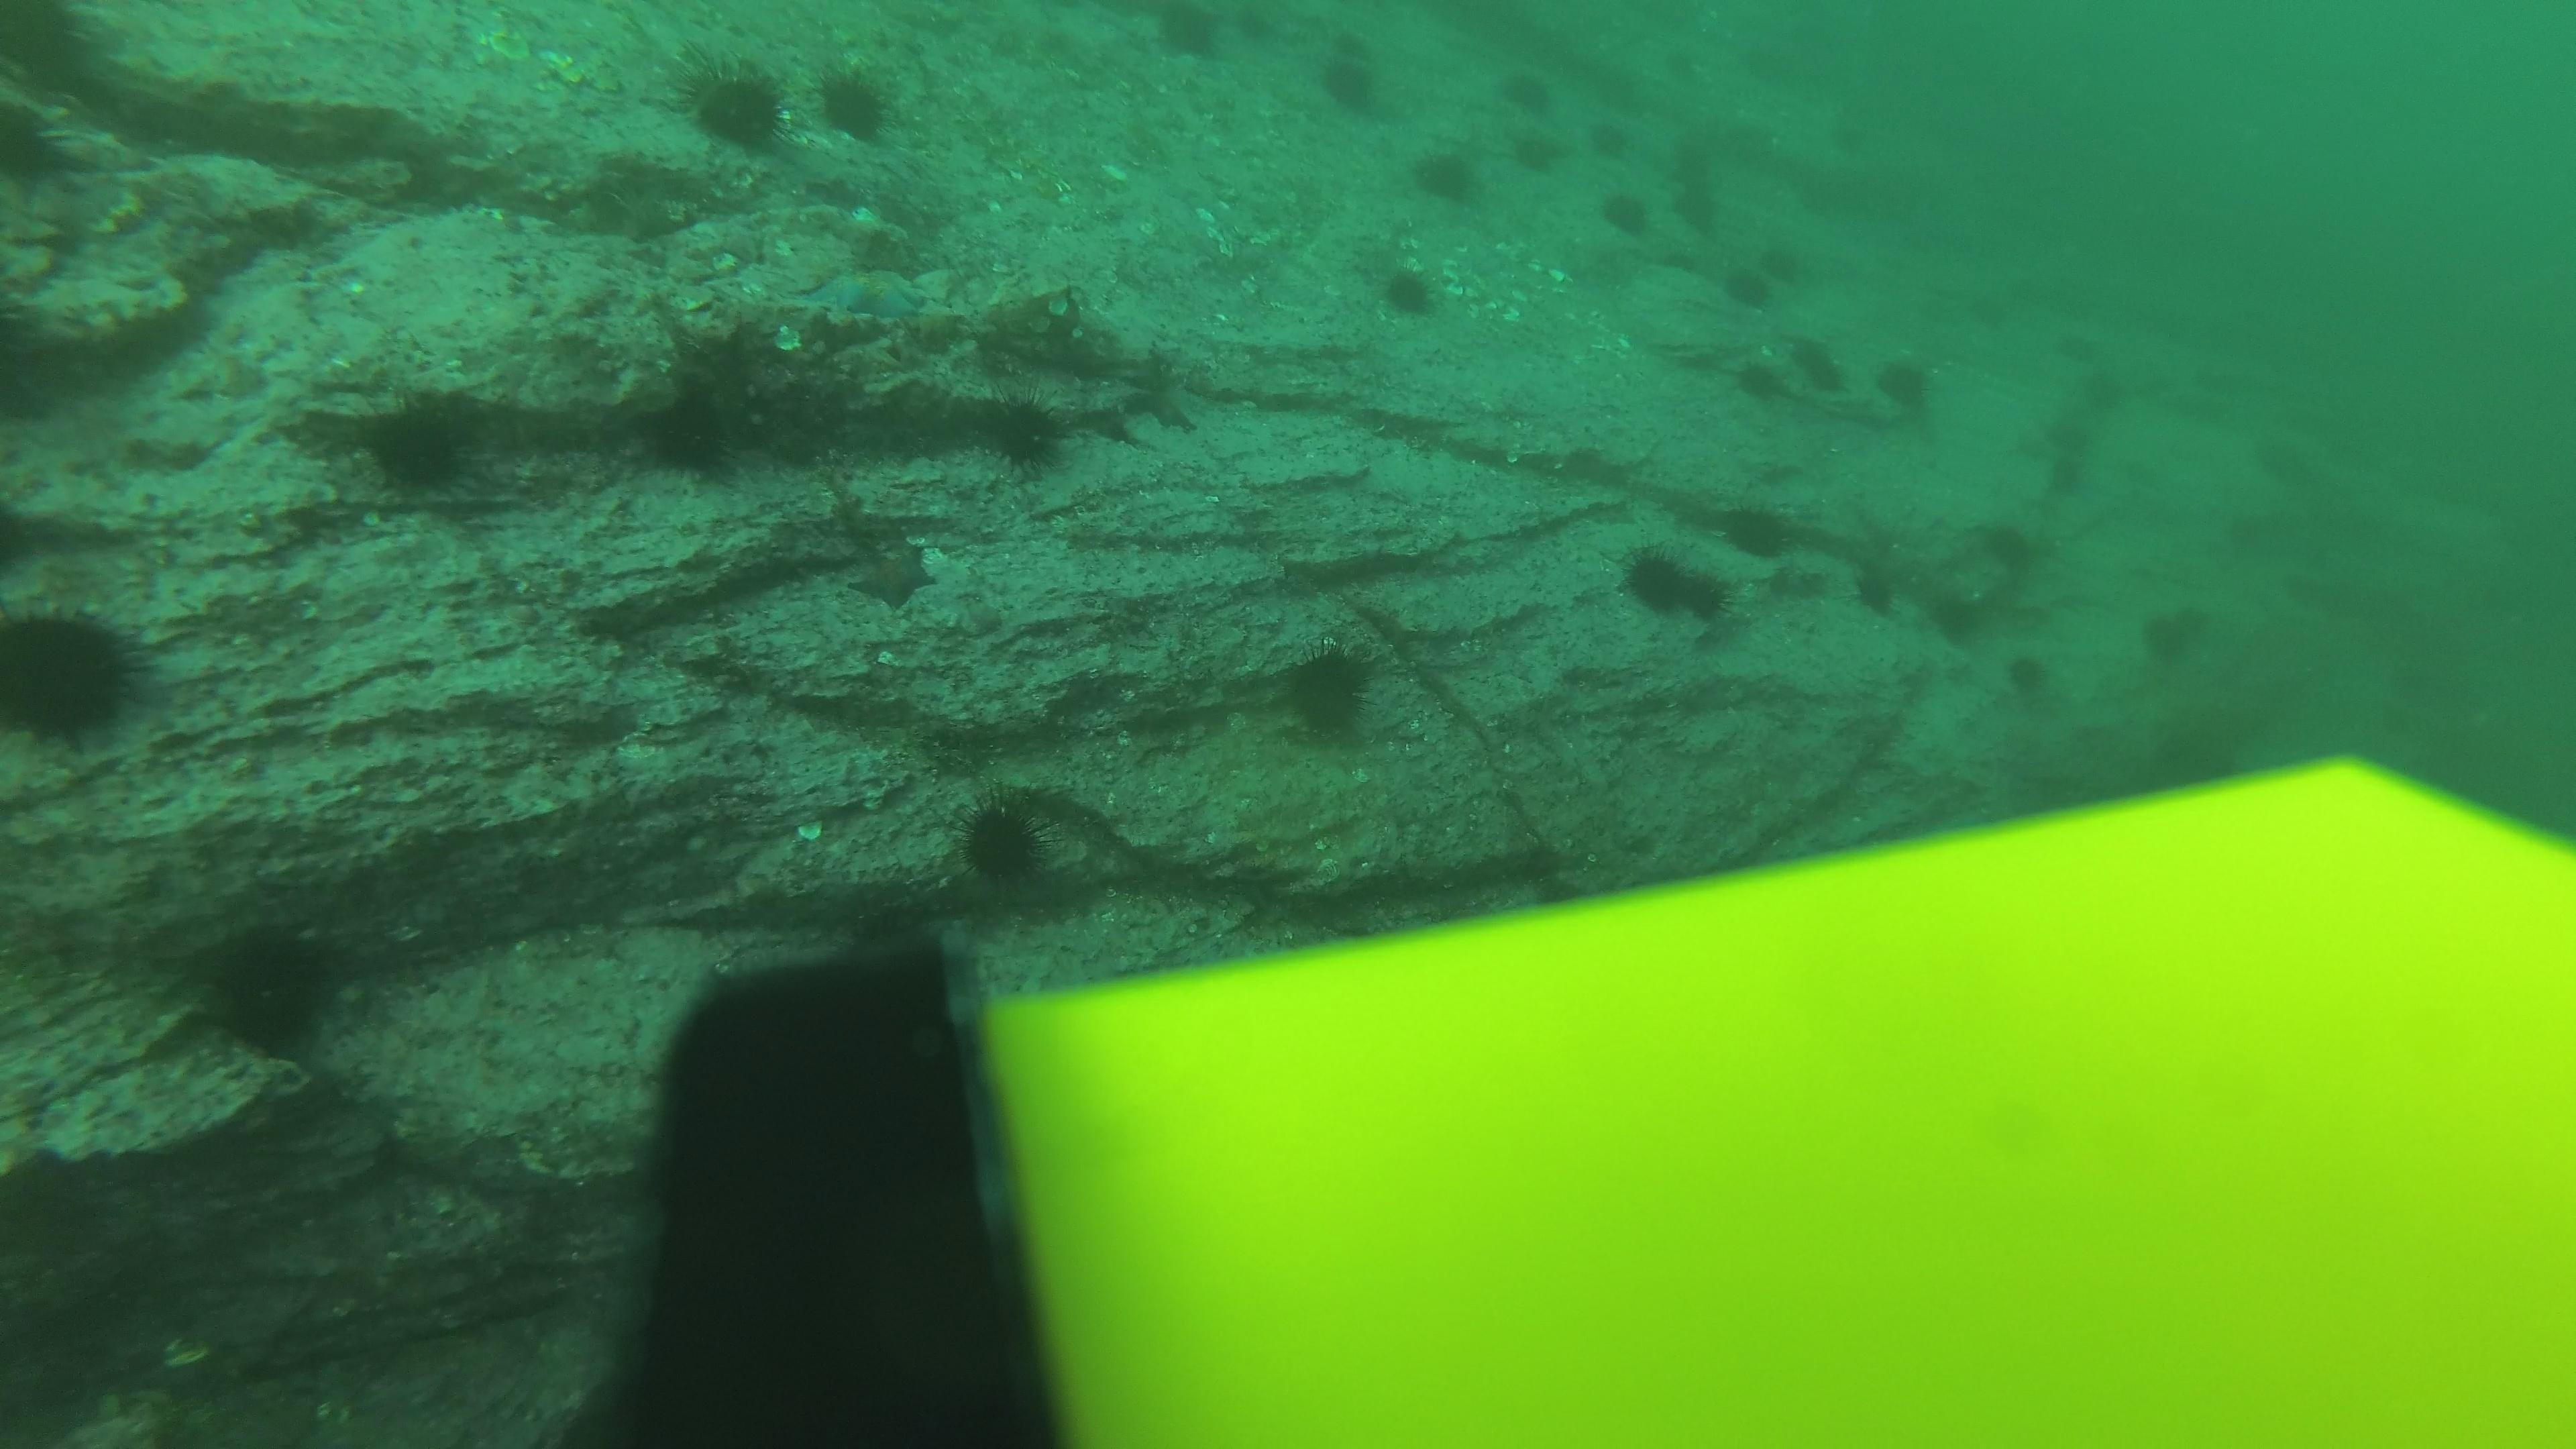echinus: (0, 594, 156, 750), (191, 918, 345, 1060), (350, 391, 487, 501), (671, 51, 796, 157), (1272, 637, 1387, 750), (947, 789, 1060, 897), (637, 379, 747, 483), (0, 78, 83, 200), (977, 391, 1076, 478), (809, 60, 902, 149), (1614, 538, 1693, 623), (1311, 39, 1389, 119), (2135, 596, 2213, 674), (1145, 0, 1230, 67), (1971, 513, 2049, 586), (1716, 495, 1799, 563), (1408, 142, 1484, 209), (1872, 350, 1941, 419), (1923, 580, 1992, 648), (1375, 258, 1444, 324), (1681, 568, 1743, 635), (1847, 556, 1905, 621), (2220, 497, 2279, 556), (2254, 428, 2312, 487), (1794, 177, 1859, 228), (1571, 111, 1638, 161), (1709, 264, 1776, 313), (1748, 235, 1815, 285), (1729, 354, 1796, 403), (2035, 403, 2102, 453), (2031, 446, 2098, 495), (2045, 311, 2112, 361), (1737, 39, 1805, 88), (1645, 32, 1713, 81), (1596, 184, 1654, 241), (1500, 131, 1566, 180), (1495, 62, 1560, 111), (1658, 134, 1723, 184), (1658, 177, 1723, 226), (1787, 340, 1852, 389), (1955, 281, 2020, 331), (1813, 108, 1879, 157), (1713, 110, 1778, 159), (2063, 361, 2128, 410), (1999, 648, 2056, 704)
starfish: (796, 262, 941, 327), (840, 536, 941, 612), (1123, 370, 1205, 435)
